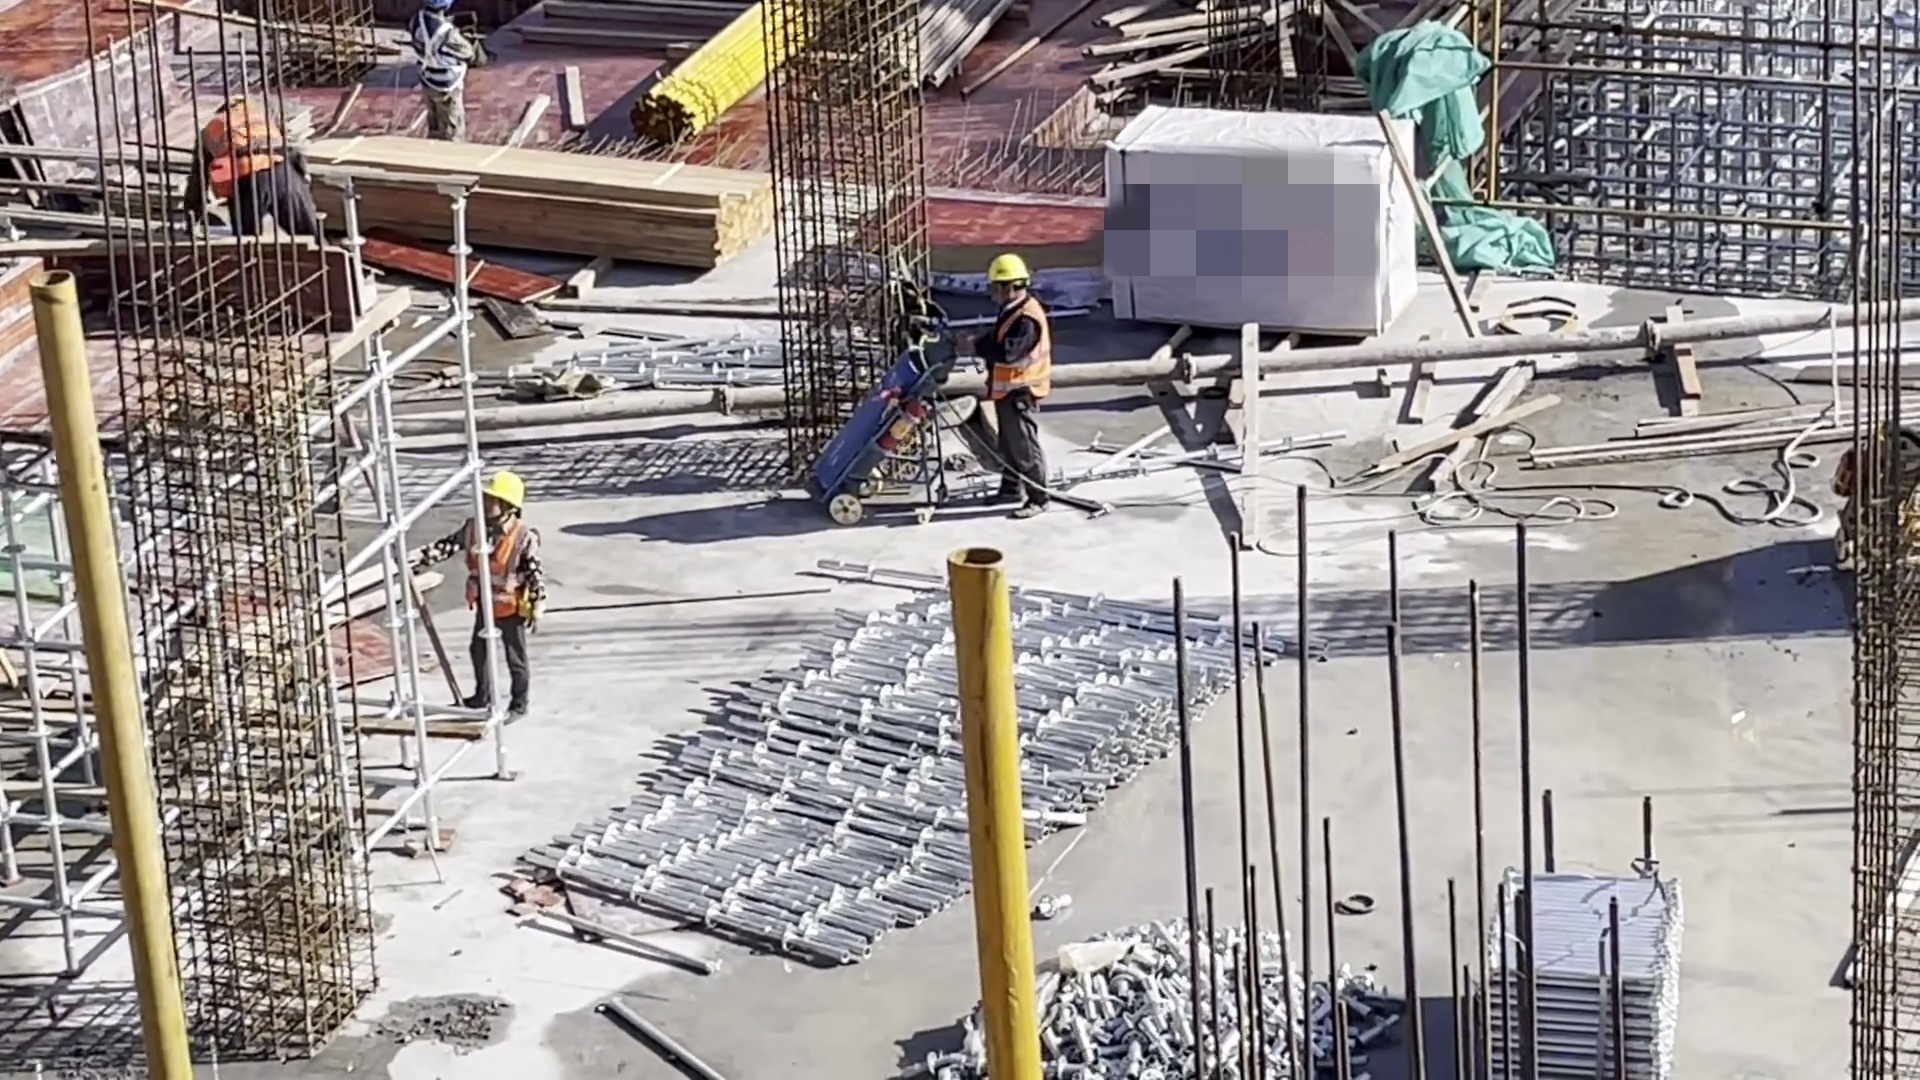helmet: (477, 471, 526, 510), (991, 254, 1031, 286)
person: (401, 475, 552, 742), (980, 256, 1077, 522), (192, 89, 326, 237), (411, 6, 482, 141)
vest: (465, 519, 531, 617), (992, 298, 1050, 408), (207, 109, 287, 183), (417, 16, 465, 98)
